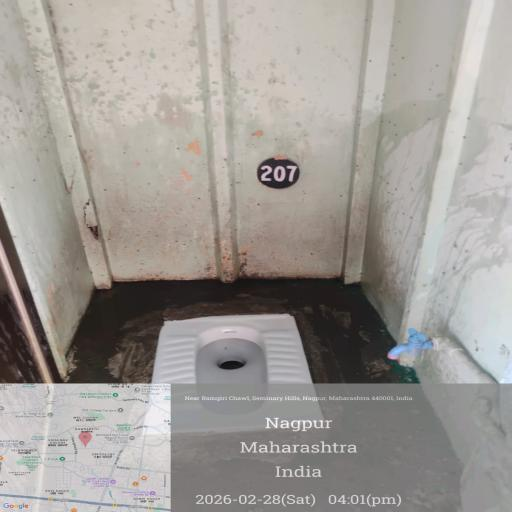clean_indian: (149, 310, 346, 474)
partial_dirty_floor: (14, 6, 447, 286), (45, 429, 512, 512)
